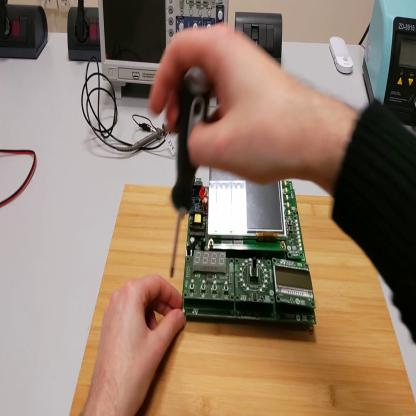hand: (150, 25, 309, 183), (84, 275, 186, 414)
low voltage board: (184, 167, 318, 329)
oscilloscope: (100, 2, 229, 99)
oscilloscope probe tip: (119, 123, 169, 152)
screwdriver-: (168, 67, 213, 281)
socket: (1, 3, 51, 63), (68, 4, 102, 64)
welder station: (364, 3, 416, 124)
working area: (69, 188, 416, 415)
